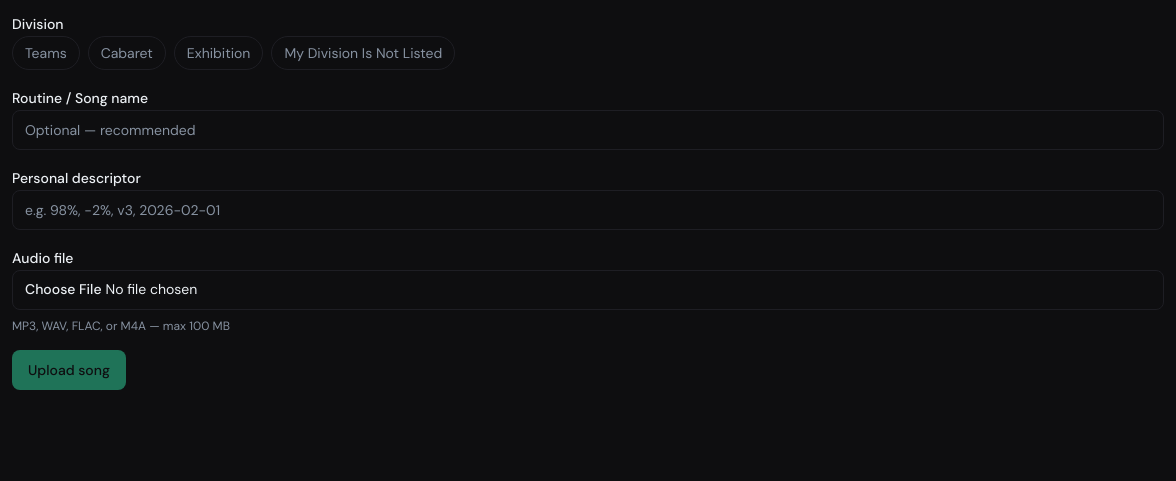
SpecialUploadForm › asks for a team when Teams is chosen and pre-selects the first one
Click the radio button labelled "Teams". click: click(46, 53)
box: left=12, top=36, right=80, bottom=70
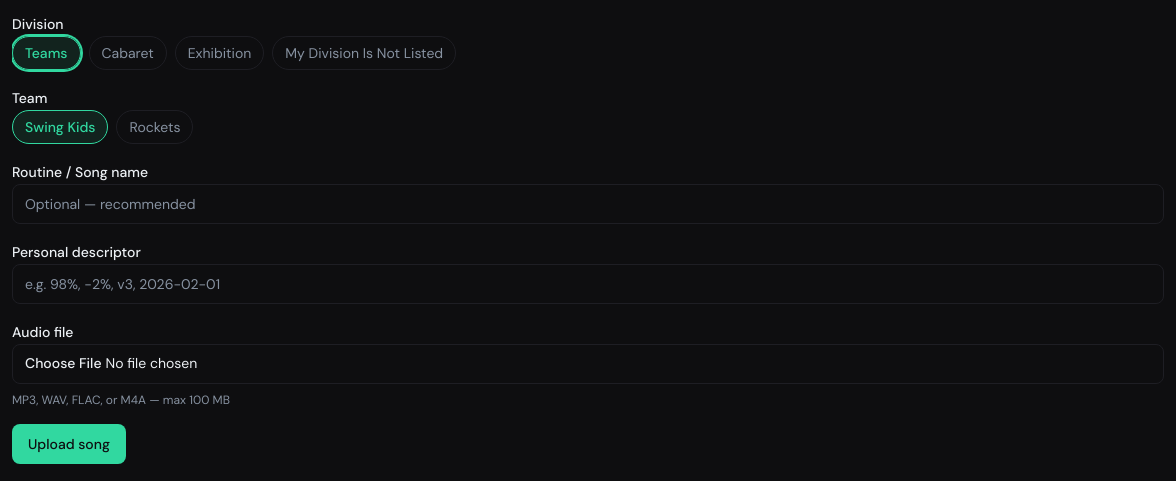
Check: the element named "Team" is shown, box left=12, top=110, right=194, bottom=144
Check: the button "Upload song" is enabled, box left=12, top=424, right=126, bottom=464
